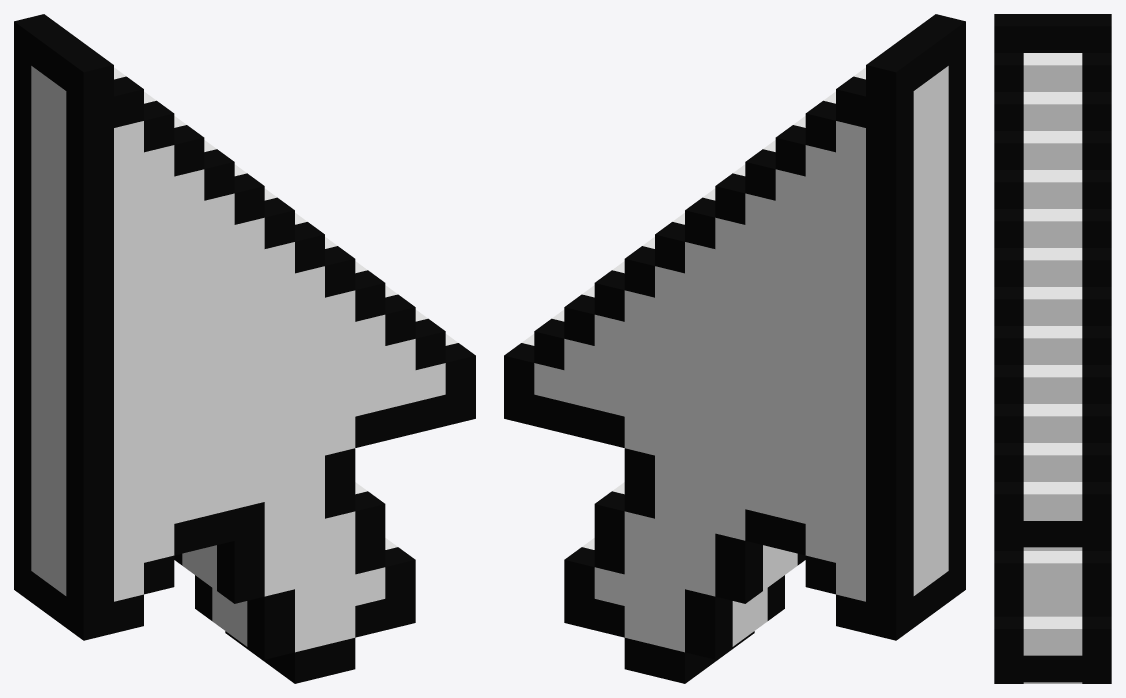
File: MouseLine.fbx
3 renders of one model, left to right at view 1: azimuth 30°, elevation 25°; view 2: azimuth 150°, elevation 25°; view 3: azimuth 270°, elevation 25°, orthographic. The views are drawn at different scales.
Parts seen in each view (by area): view 1: Untitled.082, Untitled.084; view 2: Untitled.082, Untitled.084; view 3: Untitled.084, Untitled.082.
Part boxes in pixels (<box>): Untitled.082: <box>31,66,458,652</box>; Untitled.084: <box>14,14,475,683</box>; Untitled.082: <box>521,66,948,652</box>; Untitled.084: <box>504,14,965,683</box>; Untitled.084: <box>994,14,1111,683</box>; Untitled.082: <box>1023,53,1082,683</box>.
Size of the model in its own units: 130 by 210 by 40.
2 materials, 2 textured.
